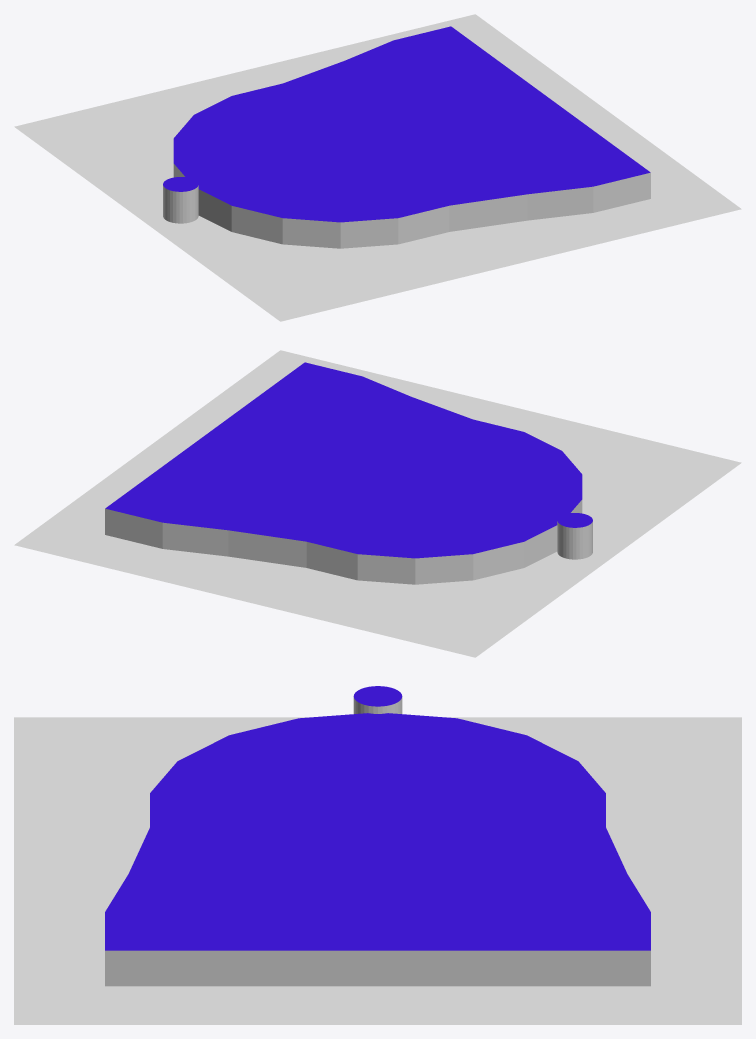
Rendered from NandGate.fbx.
3 renders of one model, top to bottom at view 1: azimuth 30°, elevation 25°; view 2: azimuth 150°, elevation 25°; view 3: azimuth 270°, elevation 25°, orthographic. The views are drawn at different scales.
Parts seen in each view (by area): view 1: NandGate; view 2: NandGate; view 3: NandGate.
Boxes of the visible parts, x1,y1,x2,y2 form: NandGate: (14, 14, 741, 321); NandGate: (14, 350, 741, 657); NandGate: (14, 686, 741, 1024).
Bounding box in the file's own units: 200 × 13.36 × 200.
